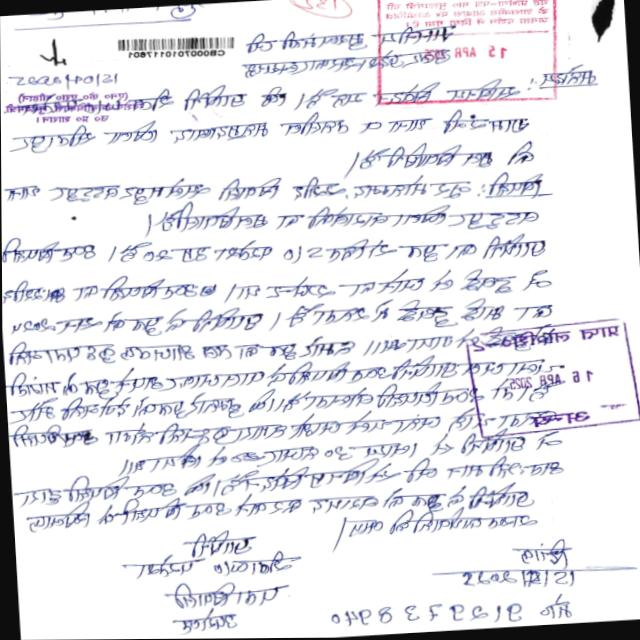antritgovtstamp: (463, 307, 640, 438)
jantadarsan: (370, 0, 568, 112), (115, 30, 236, 63)
